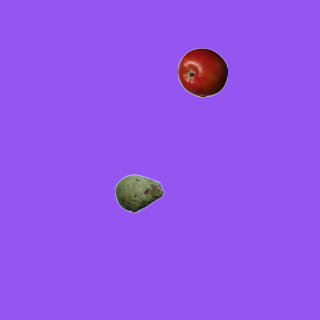Apple Braeburn: (177, 47, 227, 97)
Pear Stone: (114, 168, 164, 218)
